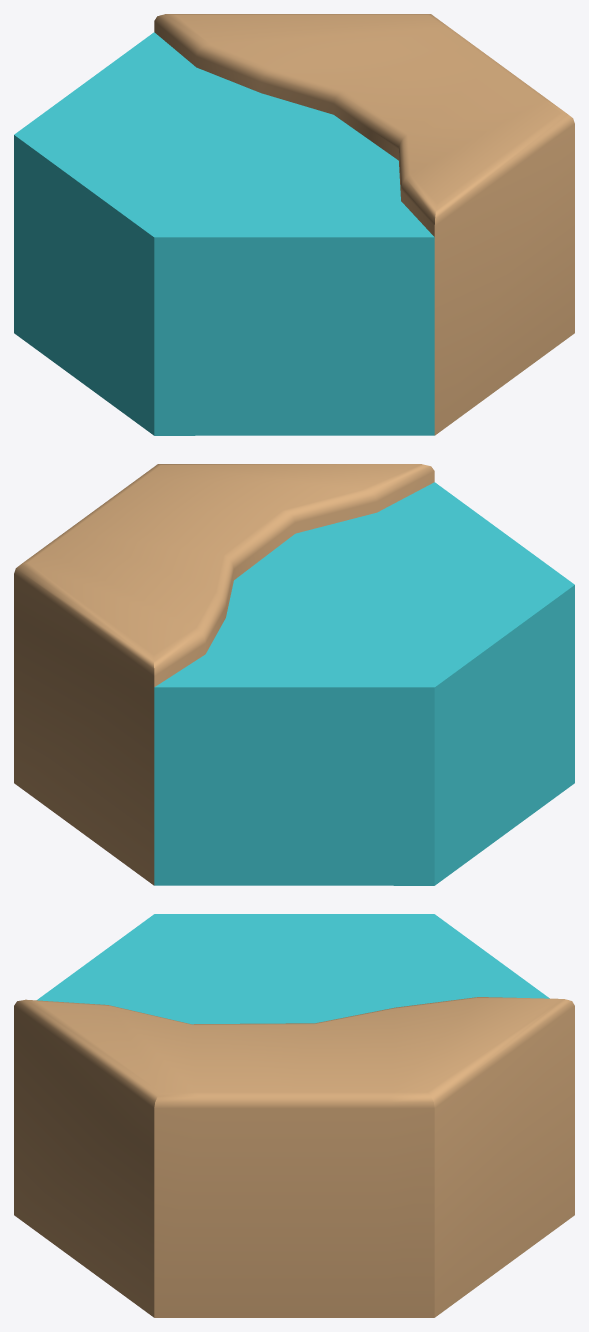
Rendered from hex_sand_waterC.glb.
The picture shows the model from 3 angles, top to bottom: view 1: azimuth 30°, elevation 25°; view 2: azimuth 150°, elevation 25°; view 3: azimuth 270°, elevation 25°; orthographic projection.
Parts seen in each view (by area): view 1: hex_sand_waterC; view 2: hex_sand_waterC; view 3: hex_sand_waterC.
Boxes of the visible parts, x1,y1,x2,y2 form: hex_sand_waterC: (14, 14, 574, 435); hex_sand_waterC: (14, 464, 574, 885); hex_sand_waterC: (14, 914, 574, 1317).
Bounding box in the file's own units: 2 × 1 × 2.31.
